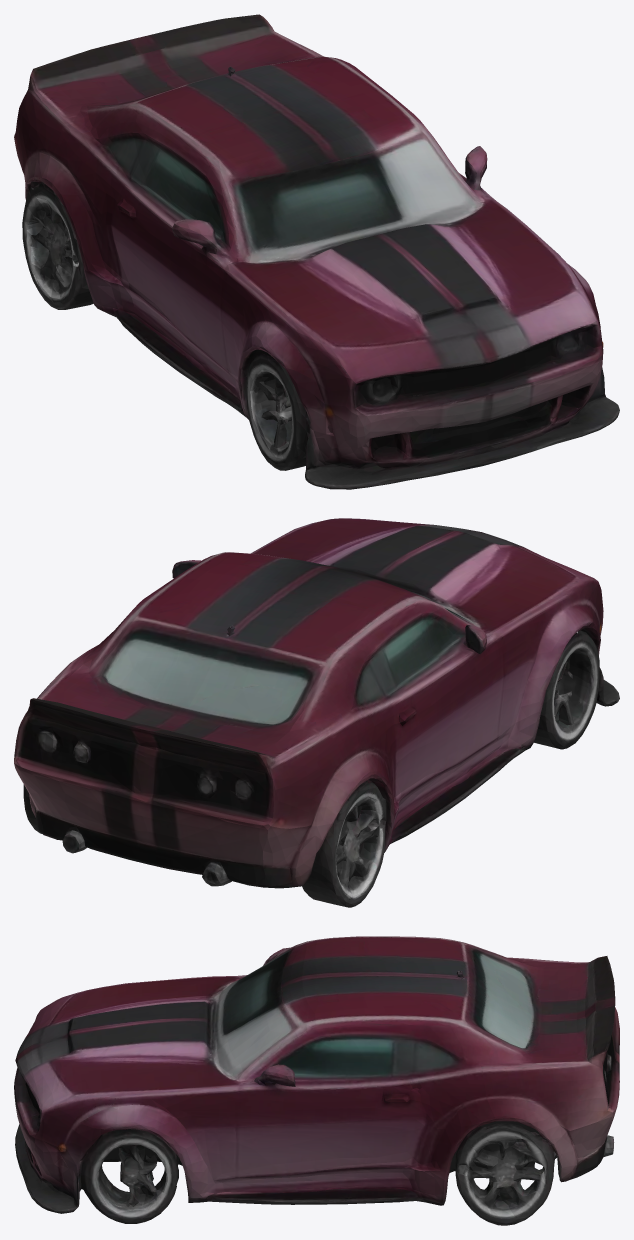
The model's file is 785e4fba-1787-4d39-b3c4-4039832029b2.glb.
3 views of the same model, one above another, from view 1: azimuth 30°, elevation 25°; view 2: azimuth 150°, elevation 25°; view 3: azimuth 270°, elevation 25° (orthographic). The views are drawn at different scales.
Visible parts, largest first — view 1: geometry_0; view 2: geometry_0; view 3: geometry_0.
Boxes of the visible parts, box(x1,y1,x2,y2) form: geometry_0: box(14, 14, 619, 489); geometry_0: box(14, 518, 619, 907); geometry_0: box(14, 936, 619, 1225).
Size of the model in its own units: 0.5212 by 0.3494 by 0.999.
1 material, 1 textured.
